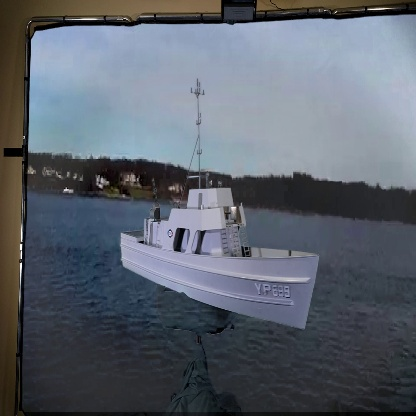YP689: (119, 74, 321, 330)
